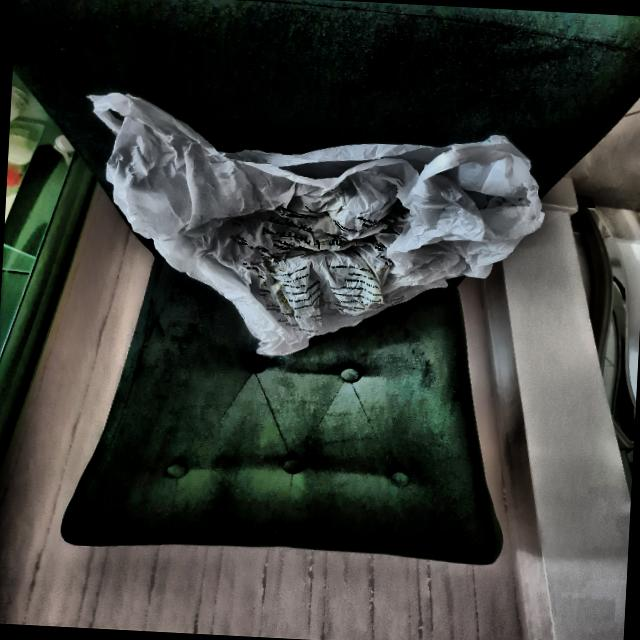plastic bag: (77, 88, 535, 362)
